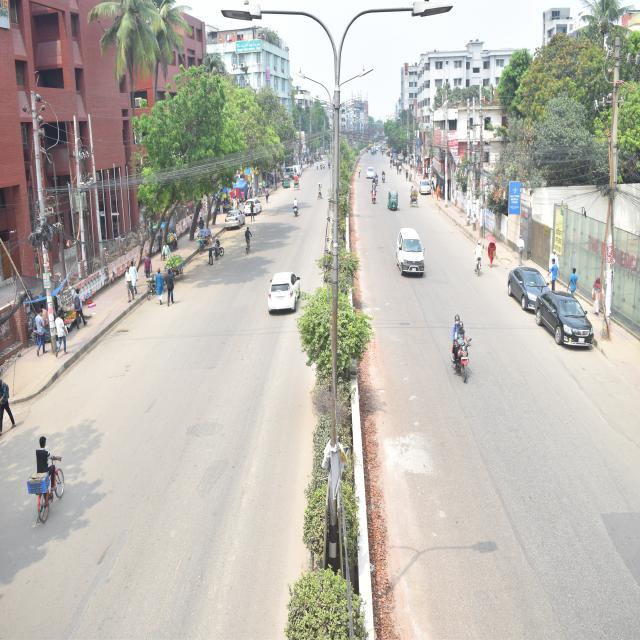car: (527, 267, 608, 350), (389, 225, 451, 299), (500, 248, 560, 314), (258, 265, 320, 323), (275, 149, 311, 189), (215, 199, 250, 236), (232, 191, 266, 225), (416, 167, 437, 208), (361, 160, 379, 186)
motorbike: (442, 304, 480, 397), (201, 222, 231, 270), (284, 193, 307, 221), (366, 175, 382, 205), (378, 158, 388, 189)
